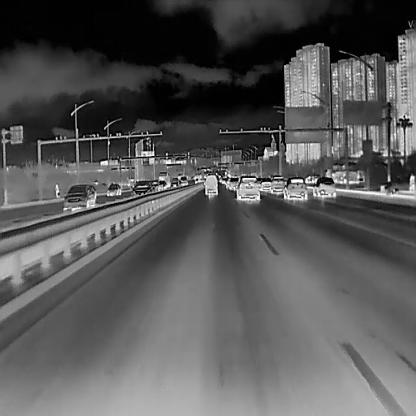bus: (158, 170, 170, 187)
car: (61, 183, 95, 212), (283, 175, 307, 199), (236, 176, 259, 199), (313, 176, 336, 197), (130, 180, 154, 198), (204, 174, 218, 193), (106, 181, 121, 196), (270, 176, 284, 192), (228, 176, 238, 190), (259, 177, 270, 189), (408, 170, 414, 192), (150, 179, 159, 191), (178, 176, 186, 186), (53, 182, 58, 197), (157, 180, 166, 188), (172, 176, 178, 186), (221, 176, 227, 184), (226, 178, 230, 187)
